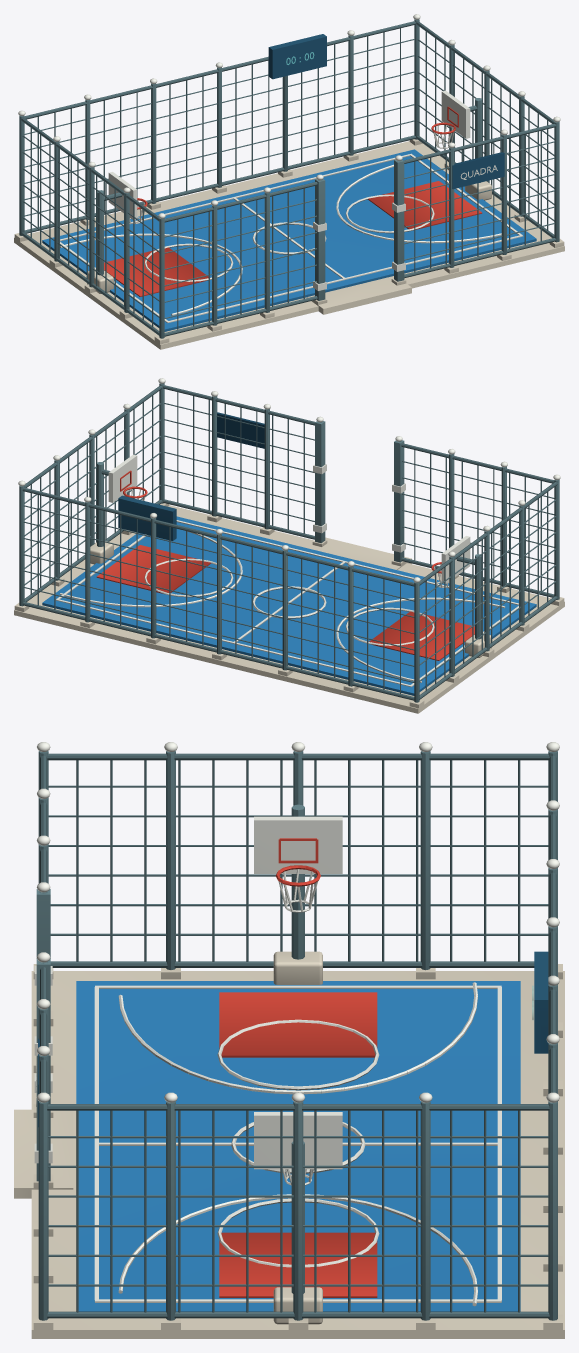
Rendered from court.glb.
3 renders of one model, top to bottom at view 1: azimuth 30°, elevation 25°; view 2: azimuth 150°, elevation 25°; view 3: azimuth 270°, elevation 25°, orthographic. The views are drawn at different scales.
Visible parts, largest first — view 1: basket stanchion, sport surface, continuous court apron, touchline, painted key, court number; view 2: basket stanchion, sport surface, continuous court apron, touchline, painted key, court number; view 3: sport surface, basket stanchion, continuous court apron, touchline, painted key, court number.
Part boxes in pixels (left/top/right/bottom): basket stanchion: left=19, top=19, right=559, bottom=338; sport surface: left=42, top=149, right=536, bottom=331; continuous court apron: left=14, top=136, right=564, bottom=349; touchline: left=18, top=14, right=560, bottom=323; painted key: left=104, top=106, right=482, bottom=296; court number: left=268, top=34, right=504, bottom=189; basket stanchion: left=19, top=383, right=559, bottom=702; sport surface: left=42, top=516, right=536, bottom=695; continuous court apron: left=14, top=500, right=564, bottom=713; touchline: left=18, top=378, right=560, bottom=687; painted key: left=96, top=470, right=474, bottom=660; court number: left=118, top=412, right=264, bottom=540; sport surface: left=76, top=981, right=520, bottom=1311; basket stanchion: left=36, top=751, right=557, bottom=1320; continuous court apron: left=14, top=951, right=564, bottom=1338; touchline: left=34, top=742, right=559, bottom=1306; painted key: left=219, top=838, right=377, bottom=1297; court number: left=38, top=951, right=548, bottom=1127.
Size of the model in its own units: 4.3 by 1.4 by 2.79.
